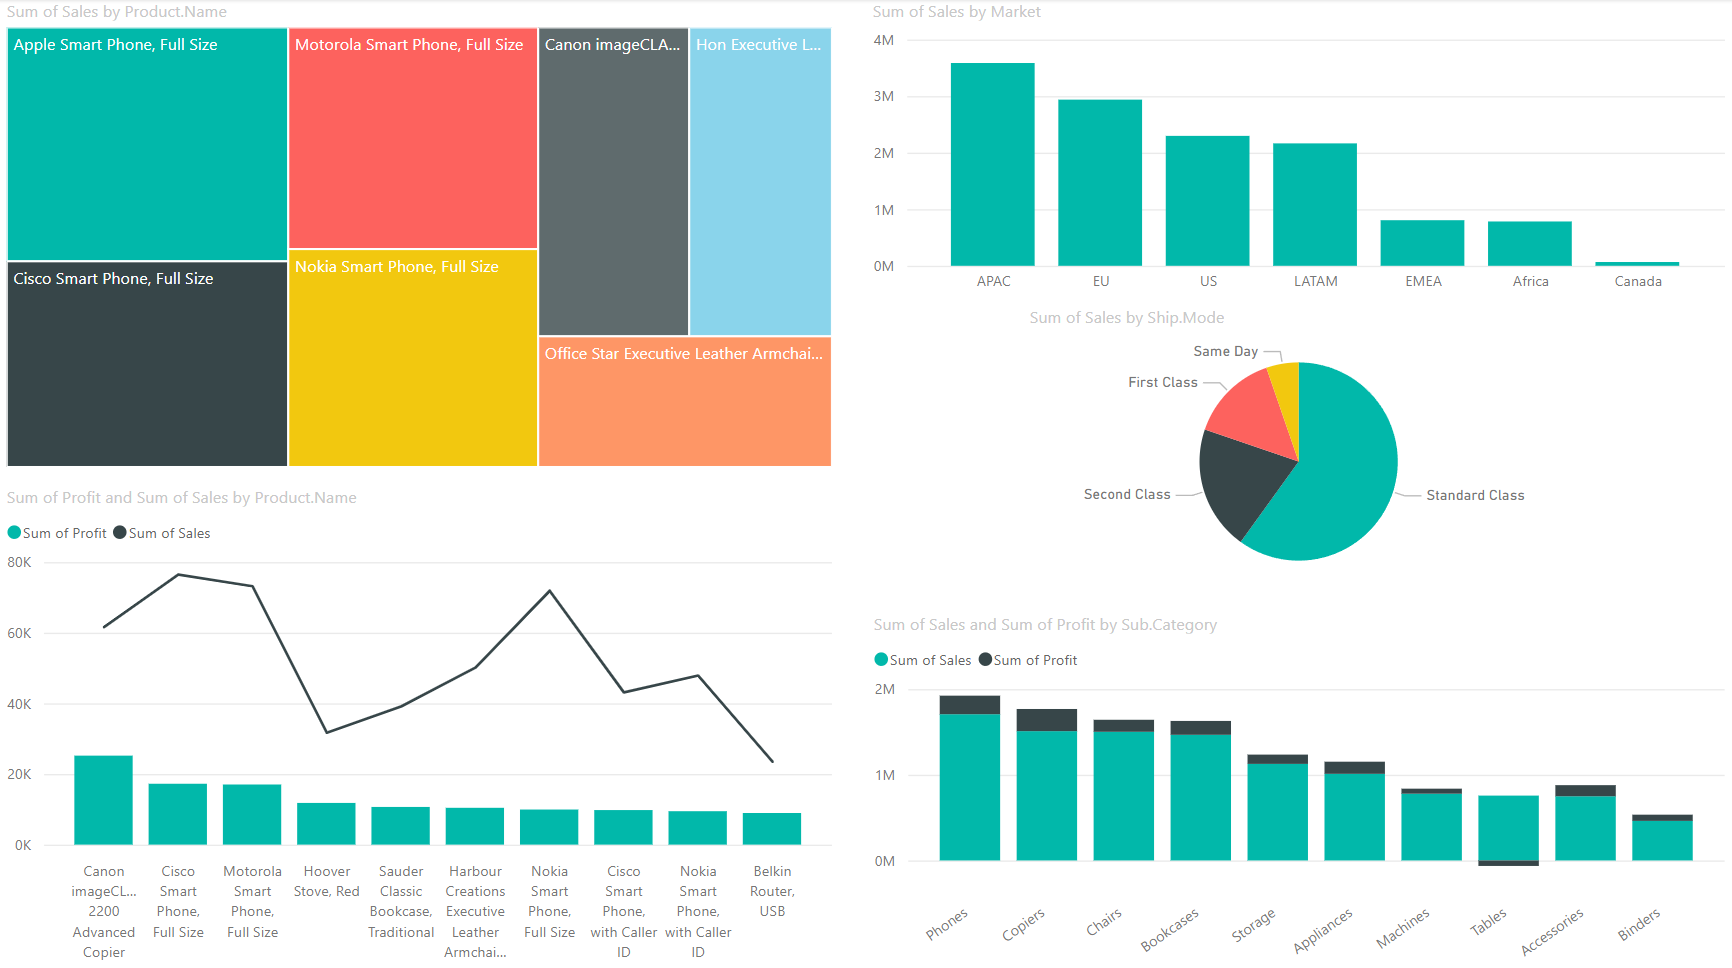

The page's visual inventory and layout, read from the dashboard file:
{"tool":"powerbi","page":{"name":"General","canvas":[1280,720],"ordinal":0},"visuals":[{"type":"treemap","fields":{"Group":["superstore.Product.Name"],"Values":["Sum(superstore.Sales)"]},"box":[0,0,620,351],"z":1000},{"type":"lineStackedColumnComboChart","fields":{"Category":["superstore.Product.Name"],"Y":["Sum(superstore.Profit)"],"Y2":["Sum(superstore.Sales)"]},"box":[0,359.5,620,359.5],"z":2000},{"type":"lineStackedColumnComboChart","fields":{"Category":["superstore.Market"],"Y":["Sum(superstore.Sales)"]},"box":[640.5,0,639.5,226.2],"z":4000},{"type":"columnChart","fields":{"Category":["superstore.Sub.Category"],"Y":["Sum(superstore.Sales)","Sum(superstore.Profit)"]},"box":[641,453,639,267],"z":4001},{"type":"pieChart","fields":{"Category":["superstore.Ship.Mode"],"Y":["Sum(superstore.Sales)"]},"box":[756.1,226.4,407.5,215.4],"z":4002}]}

Visuals, with their boxes in screenshot pixels (x1, y1, x2, y2), scaled from the page's 1280x720 canvas onto the 1732x968 screenshot:
treemap - superstore.Product.Name x Sum(superstore.Sales): 0, 0, 839, 472
lineStackedColumnComboChart - superstore.Product.Name x Sum(superstore.Profit): 0, 483, 839, 967
lineStackedColumnComboChart - superstore.Market x Sum(superstore.Sales): 867, 0, 1731, 304
columnChart - superstore.Sub.Category x Sum(superstore.Sales): 867, 609, 1731, 967
pieChart - superstore.Ship.Mode x Sum(superstore.Sales): 1023, 304, 1574, 594
